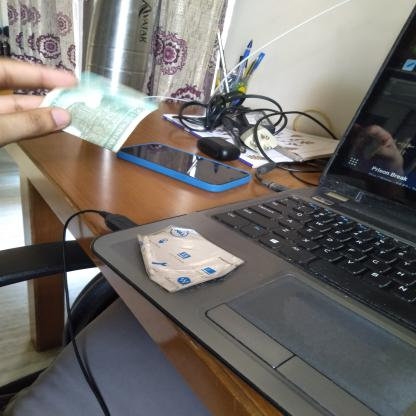New50Back: (30, 72, 146, 145)
